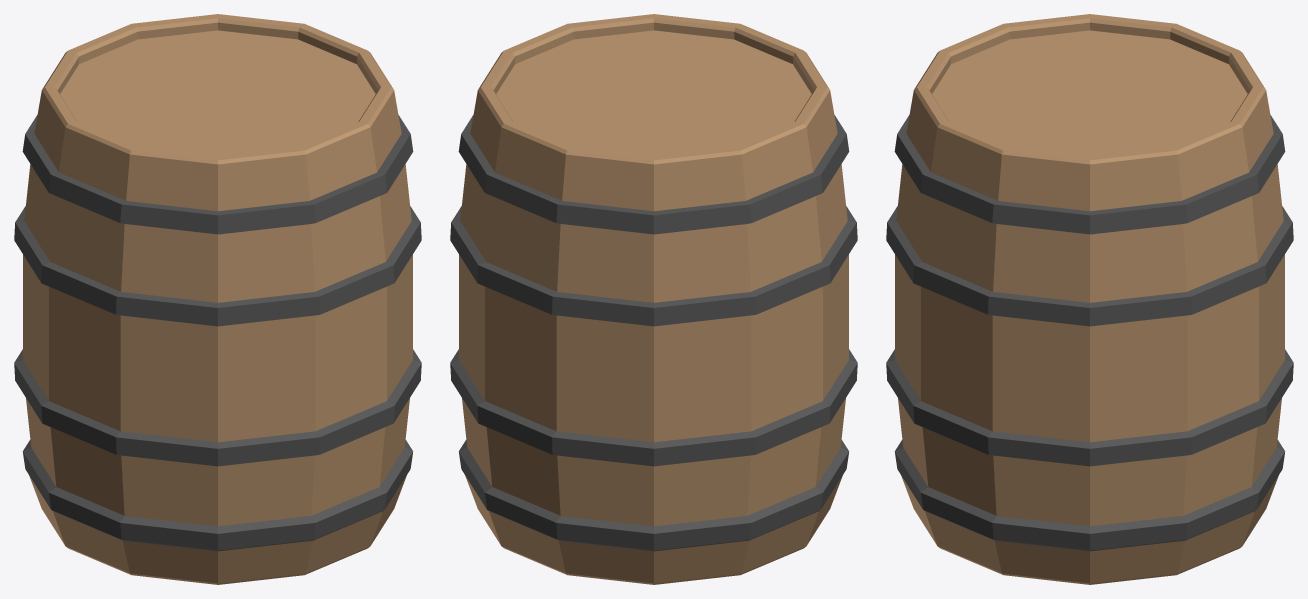
Rendered from Barrel A-col.glb.
3 renders of one model, left to right at view 1: azimuth 30°, elevation 25°; view 2: azimuth 150°, elevation 25°; view 3: azimuth 270°, elevation 25°, orthographic.
Visible parts, largest first — view 1: Barrel A-col; view 2: Barrel A-col; view 3: Barrel A-col.
Part boxes in pixels (<box>): Barrel A-col: <box>14,14,421,584</box>; Barrel A-col: <box>450,14,857,584</box>; Barrel A-col: <box>886,14,1293,584</box>.
Size of the model in its own units: 0.87 by 1 by 0.87.
